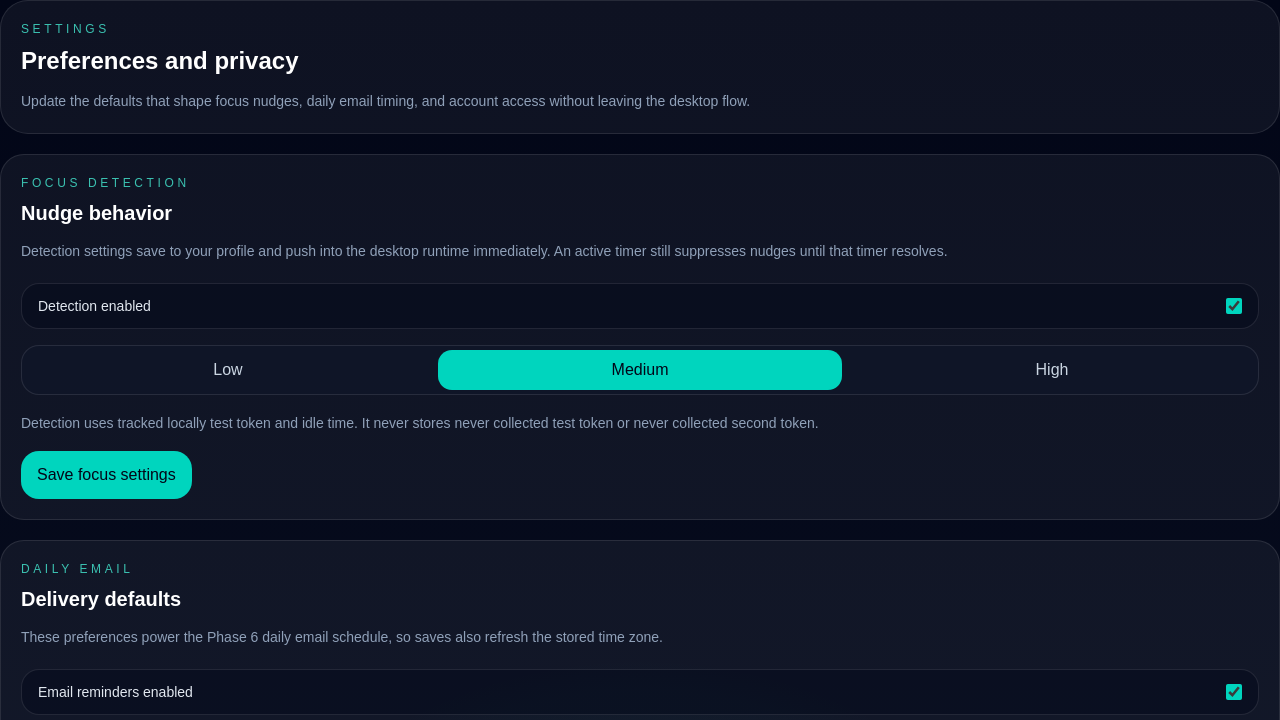
Settings › rolls focus drafts back to the last confirmed profile when save fails
This screenshot has width=1280, height=720.
Click the checkbox labelled "Detection enabled" at (1234,306), box [1226,298,1242,314]
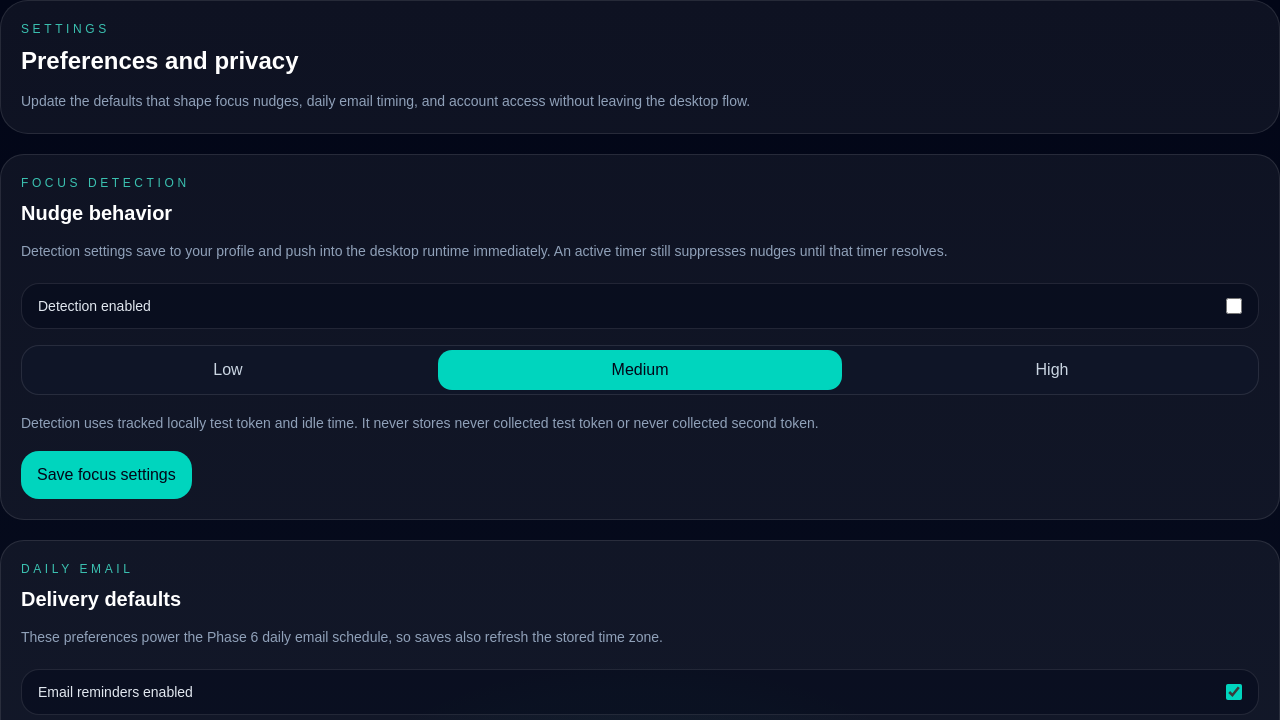
Expected: the checkbox labelled "Detection enabled" is not checked, [1226,298,1242,314]
Click the button "Save focus settings" at (106,475), box [21,451,192,499]
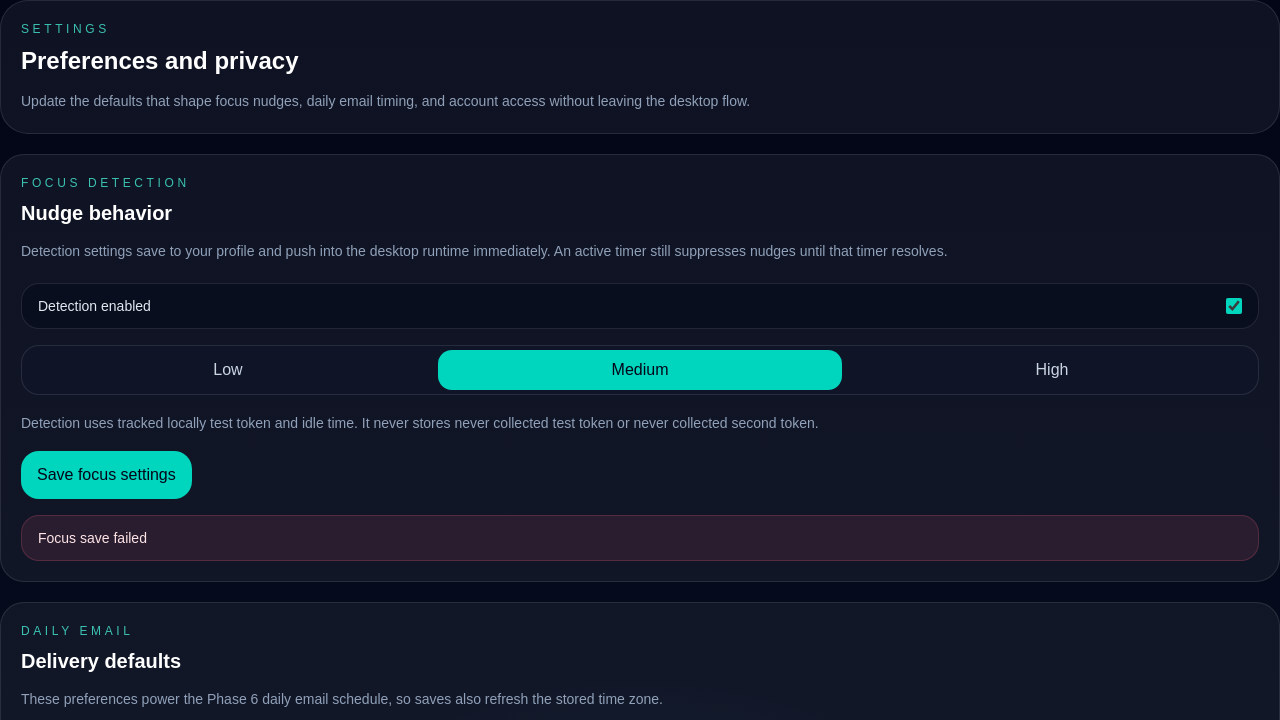
Expected: the checkbox labelled "Detection enabled" is checked, [1226,298,1242,314]
Expected: the message reads "Focus save failed", [38,530,147,546]
